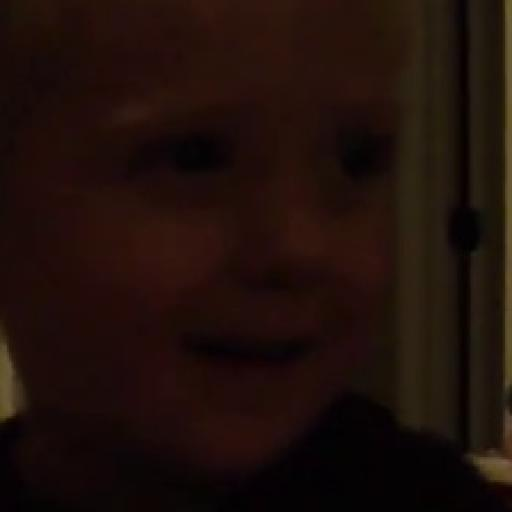Autism: (35, 0, 447, 512)
